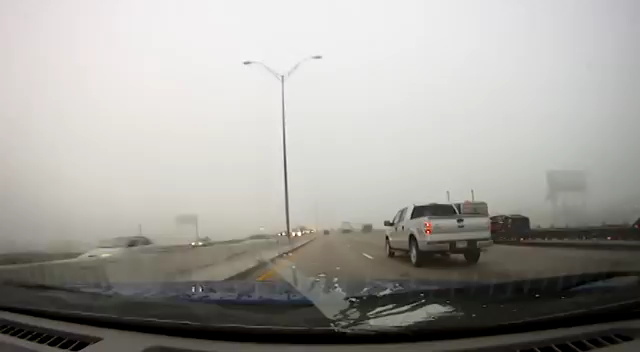car: (383, 202, 492, 266), (77, 235, 157, 267), (487, 213, 530, 242), (190, 235, 214, 249), (287, 227, 303, 239)
